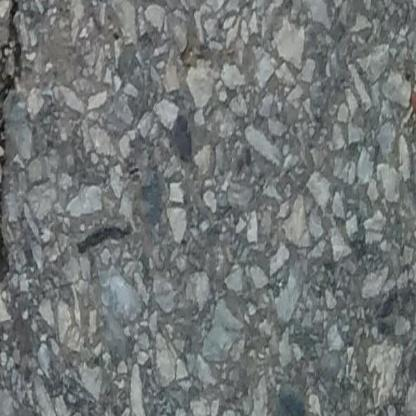Cracks: (0, 0, 27, 323)
